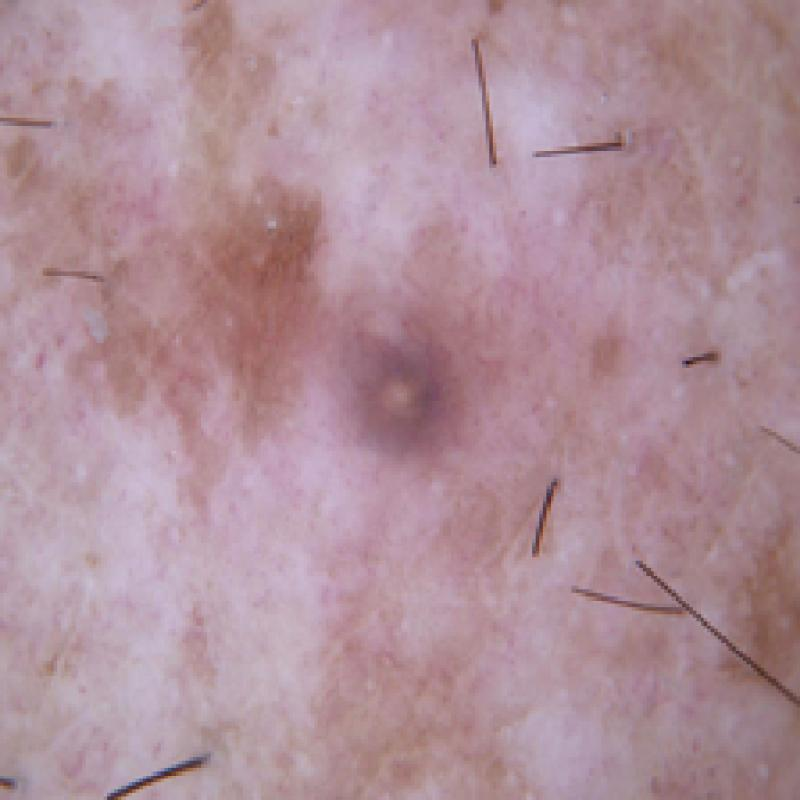benign: (327, 299, 495, 467)
